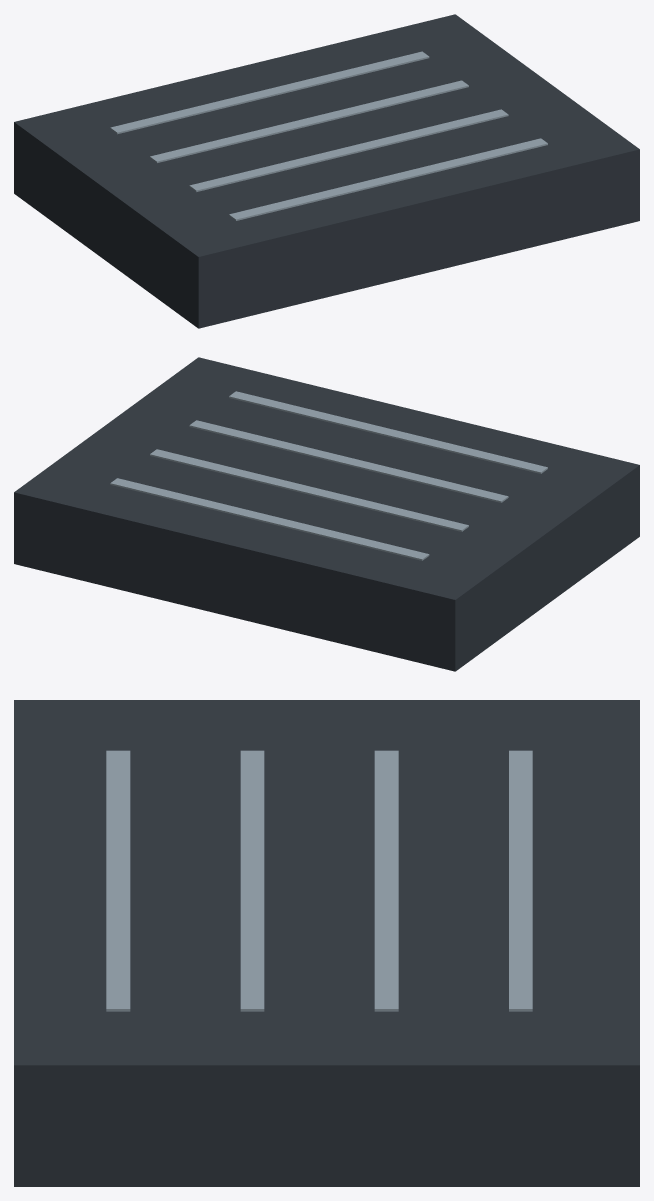
Rendered from 145_L110_ChipsetHeatsink.fbx.
3 views of the same model, one above another, from view 1: azimuth 30°, elevation 25°; view 2: azimuth 150°, elevation 25°; view 3: azimuth 270°, elevation 25° (orthographic). The views are drawn at different scales.
Visible parts, largest first — view 1: L110_ChipsetHeatsink_DARK_METAL, L110_ChipsetHeatsink_ALUMINUM; view 2: L110_ChipsetHeatsink_DARK_METAL, L110_ChipsetHeatsink_ALUMINUM; view 3: L110_ChipsetHeatsink_DARK_METAL, L110_ChipsetHeatsink_ALUMINUM.
Boxes of the visible parts, left/top/right/bottom form: L110_ChipsetHeatsink_DARK_METAL: left=14, top=14, right=639, bottom=328; L110_ChipsetHeatsink_ALUMINUM: left=110, top=51, right=547, bottom=220; L110_ChipsetHeatsink_DARK_METAL: left=14, top=357, right=639, bottom=671; L110_ChipsetHeatsink_ALUMINUM: left=110, top=391, right=547, bottom=560; L110_ChipsetHeatsink_DARK_METAL: left=14, top=700, right=639, bottom=1186; L110_ChipsetHeatsink_ALUMINUM: left=106, top=750, right=532, bottom=1011.
Bounding box in the file's own units: 58 × 42 × 9.22.
